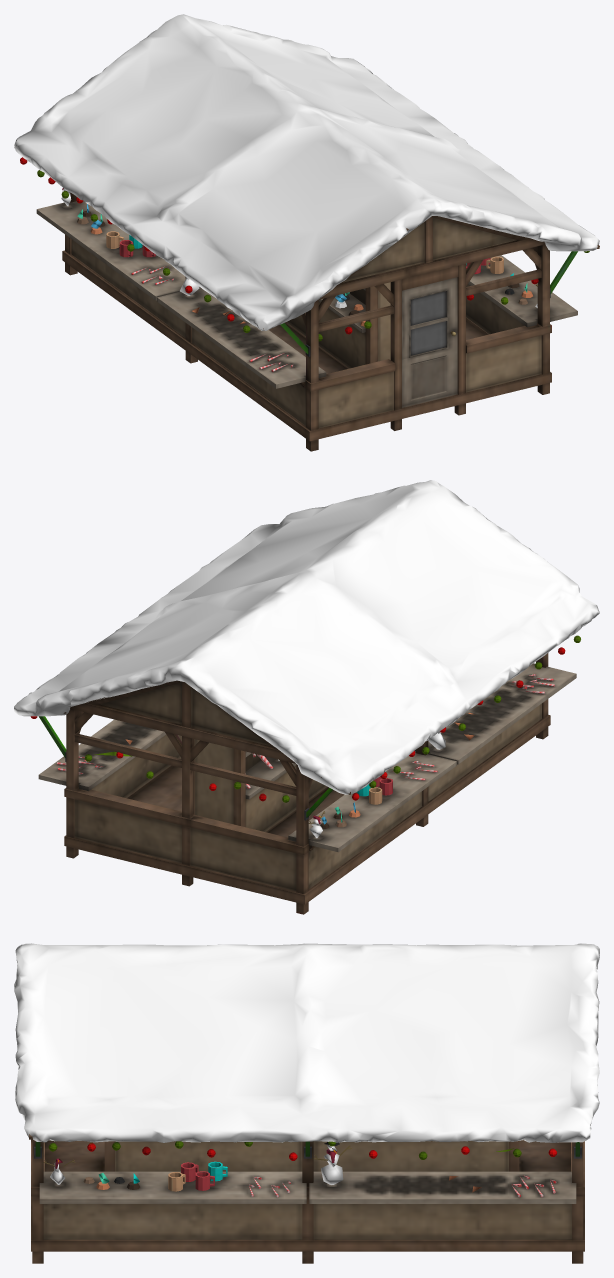
Rendered from christmas-market.glb.
3 renders of one model, top to bottom at view 1: azimuth 30°, elevation 25°; view 2: azimuth 150°, elevation 25°; view 3: azimuth 270°, elevation 25°, orthographic. The views are drawn at different scales.
Parts seen in each view (by area): view 1: anim12:Mesh; view 2: anim12:Mesh; view 3: anim12:Mesh.
Boxes of the visible parts, x1,y1,x2,y2 form: anim12:Mesh: (14, 14, 599, 451); anim12:Mesh: (14, 480, 599, 914); anim12:Mesh: (14, 943, 599, 1263).
Bounding box in the file's own units: 6.09 × 3.8 × 7.99.
6 materials, 5 textured.
